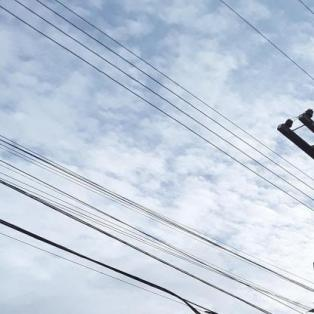Poste: (271, 133, 314, 314)
